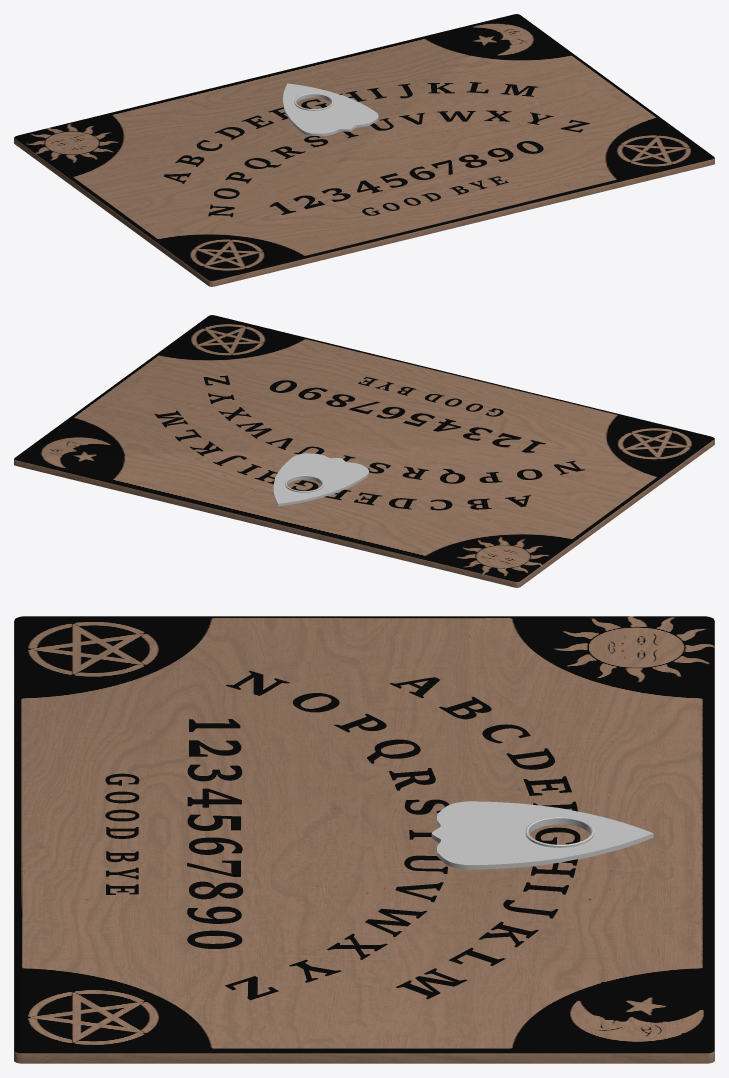
Rendered from OuijaBoard.fbx.
3 renders of one model, top to bottom at view 1: azimuth 30°, elevation 25°; view 2: azimuth 150°, elevation 25°; view 3: azimuth 270°, elevation 25°, orthographic. The views are drawn at different scales.
Visible parts, largest first — view 1: OuijaBoard, OuijaMirror; view 2: OuijaBoard, OuijaMirror; view 3: OuijaBoard, OuijaMirror, Good, M.
Part boxes in pixels (box(x1,y1,x2,y2)): OuijaBoard: box(14, 14, 714, 286); OuijaMirror: box(283, 83, 378, 136); OuijaBoard: box(14, 315, 714, 587); OuijaMirror: box(273, 453, 368, 506); OuijaBoard: box(14, 616, 714, 1063); OuijaMirror: box(431, 801, 653, 869); Good: box(105, 773, 139, 838); M: box(396, 968, 467, 999).
Bounding box in the file's own units: 660 × 12.9 × 448.
